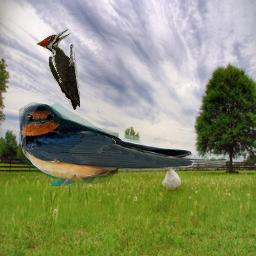Swallow: (15, 100, 229, 186)
Woodpecker: (36, 29, 80, 110)
